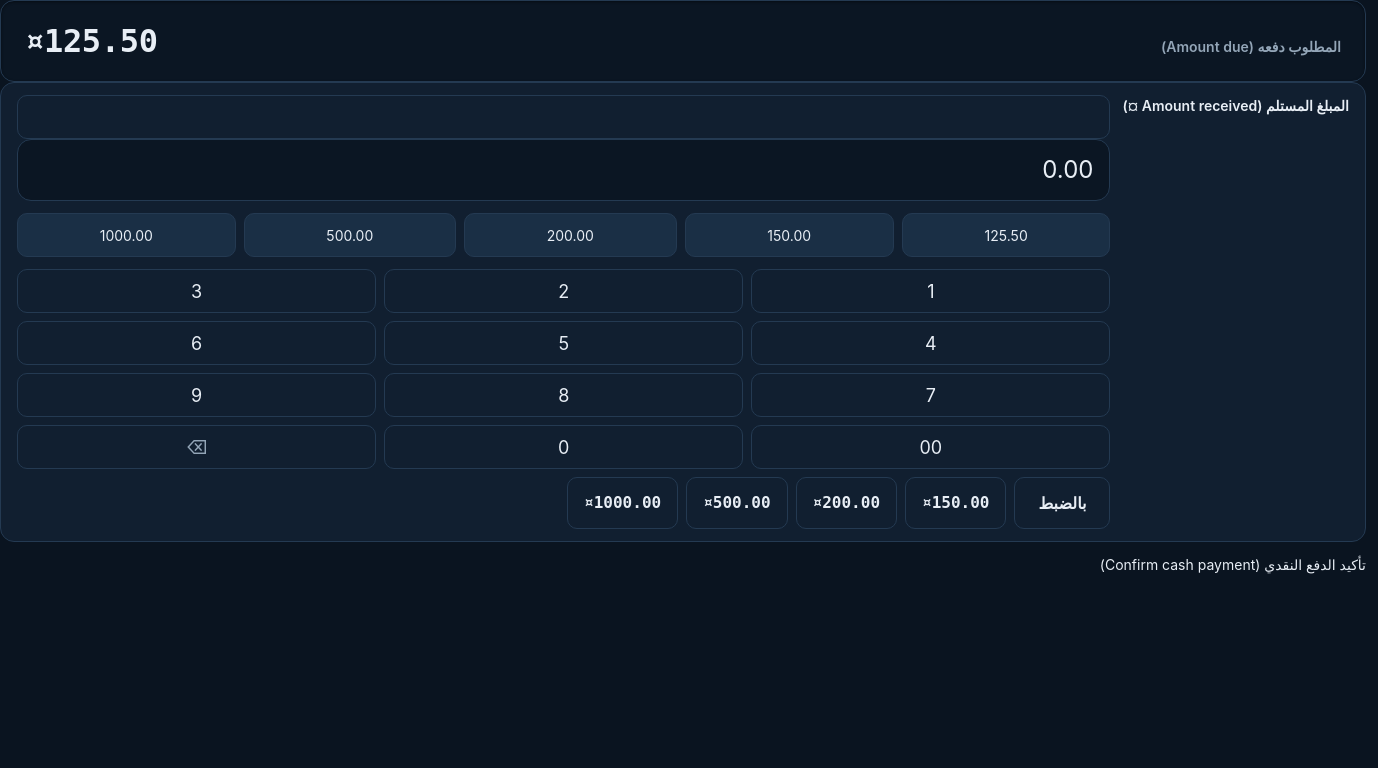
<CashEntry> — under-tender refusal › hides the refusal copy when amount becomes sufficient again
The image size is (1378, 768).
Type "100.00" into the field with test id "cash-entry-amount-input" at (564, 117), box left=17, top=95, right=1110, bottom=139
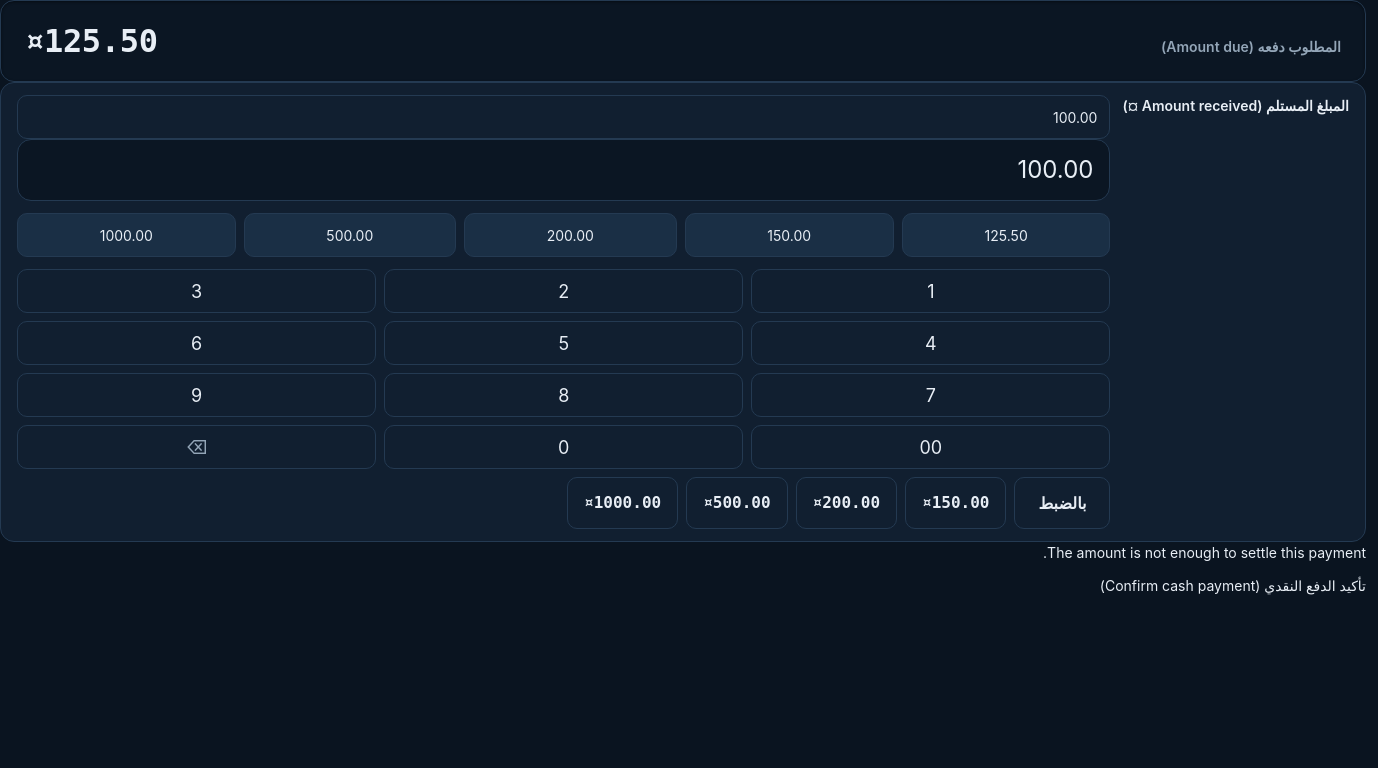
Now the message "The amount is not enough to settle this payment." is shown, box left=1043, top=544, right=1366, bottom=561
Replace the text in the field with test id "cash-entry-amount-input" with "125.50" at (564, 117), box left=17, top=95, right=1110, bottom=139
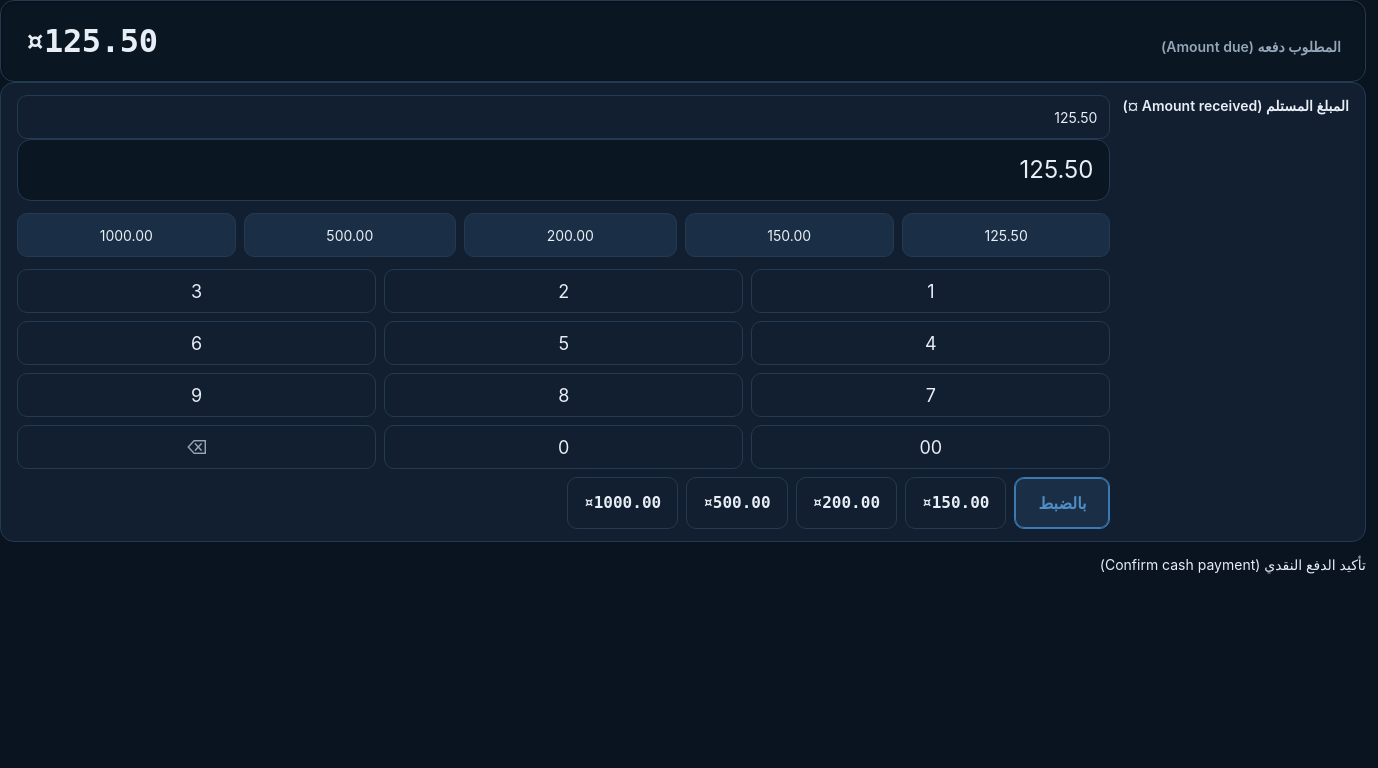
Now the message with test id "cash-entry-refusal" is gone
